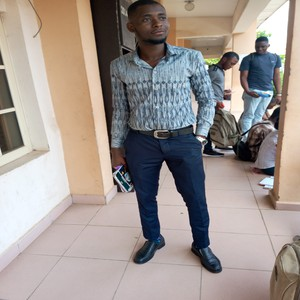Fulokoja_male_student: (111, 2, 223, 275)
